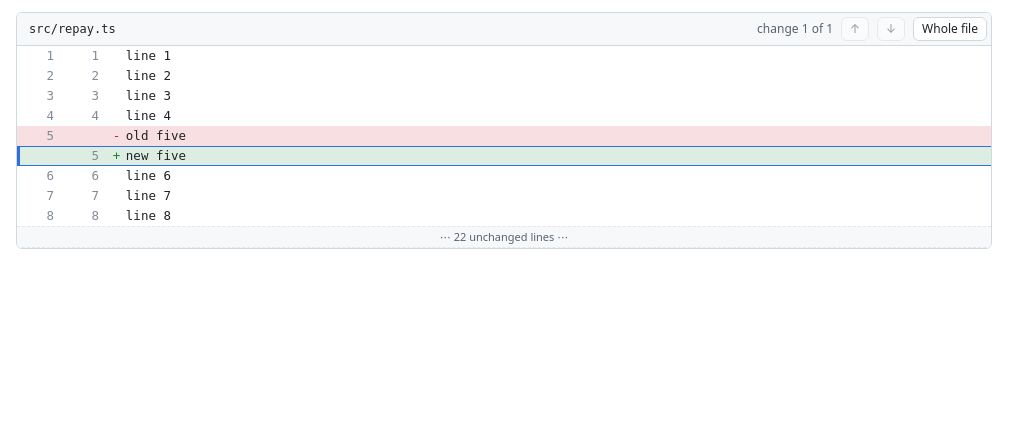
Test: CodeView: commenting on lines › a line outside the diff says it becomes a file-level comment
Expected: the text "new five" is shown, x1=126 y1=148 x2=186 y2=163
Click the button "2" at {"x": 84, "y": 76}, box x1=62 y1=66 x2=107 y2=86
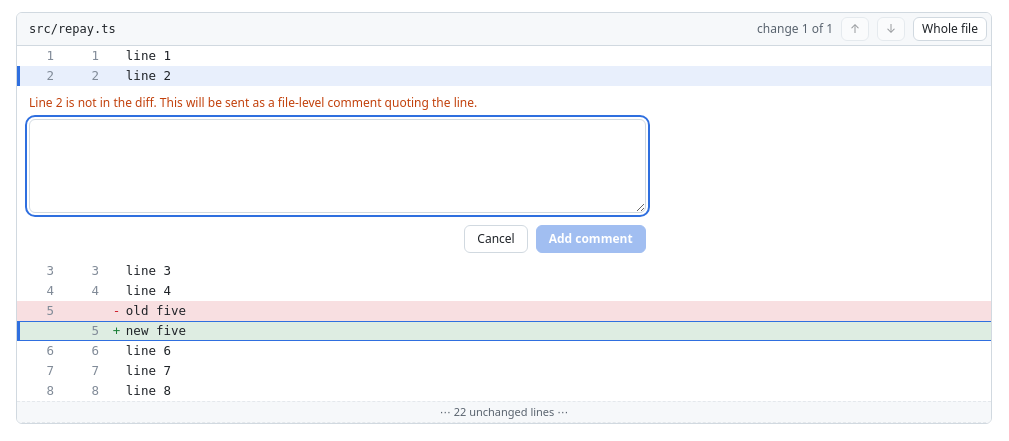
Result: the text with class "composer-notice" shows "Line 2 is not in the diff. This will be sent as a file-level comment quoting the line." at x1=29 y1=94 x2=477 y2=111
